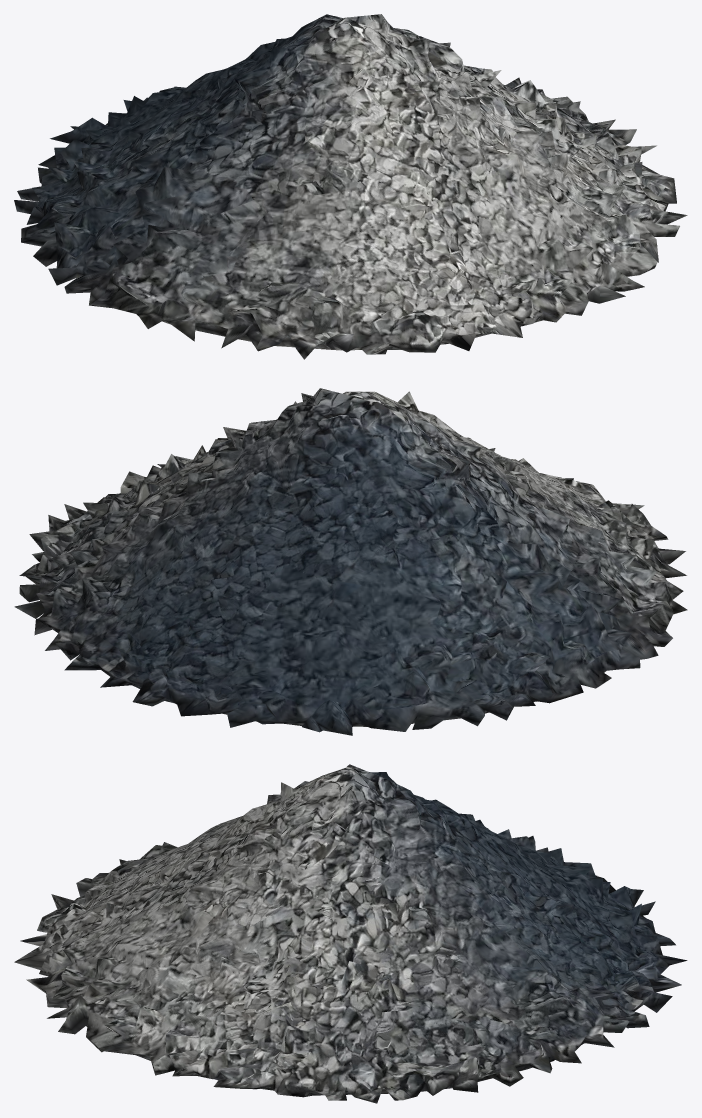
The model's file is qr_gravel1.glb.
3 views of the same model, one above another, from view 1: azimuth 30°, elevation 25°; view 2: azimuth 150°, elevation 25°; view 3: azimuth 270°, elevation 25° (orthographic). The views are drawn at different scales.
Parts seen in each view (by area): view 1: tripo_node_d8967255-a5f8-49be-9267-b9e24c992ed3; view 2: tripo_node_d8967255-a5f8-49be-9267-b9e24c992ed3; view 3: tripo_node_d8967255-a5f8-49be-9267-b9e24c992ed3.
Part boxes in pixels (x1,y1,x2,y2): tripo_node_d8967255-a5f8-49be-9267-b9e24c992ed3: (14,14,687,359); tripo_node_d8967255-a5f8-49be-9267-b9e24c992ed3: (14,388,687,735); tripo_node_d8967255-a5f8-49be-9267-b9e24c992ed3: (14,764,687,1103).
Size of the model in its own units: 0.9874 by 0.3372 by 1.
Materials: 1 (1 with a texture image).
